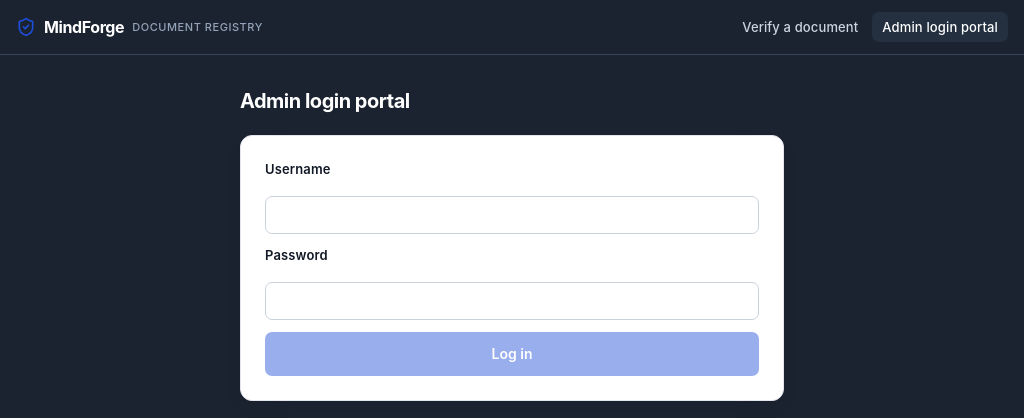
Test: dashboard › asks the server for the chosen status
In the field labelled "Username": (512, 215) [265,196,759,234], type "officer"
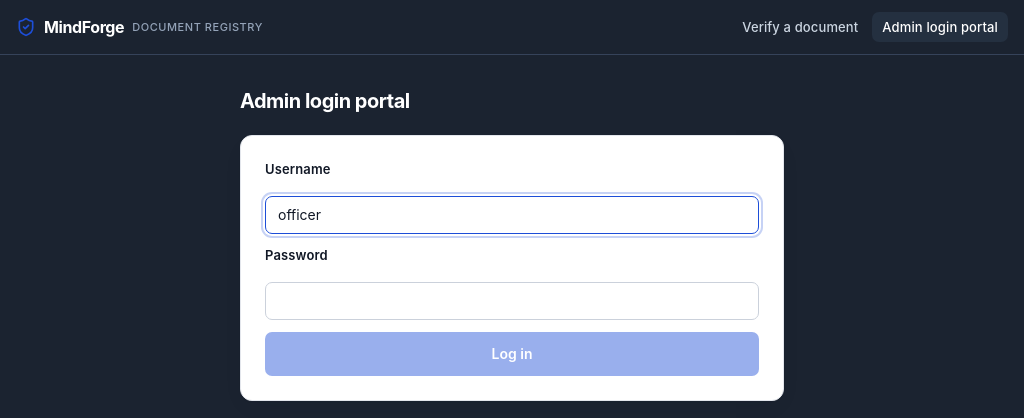
In the password field labelled "Password": (512, 301) [265,282,759,320], type "correct horse"
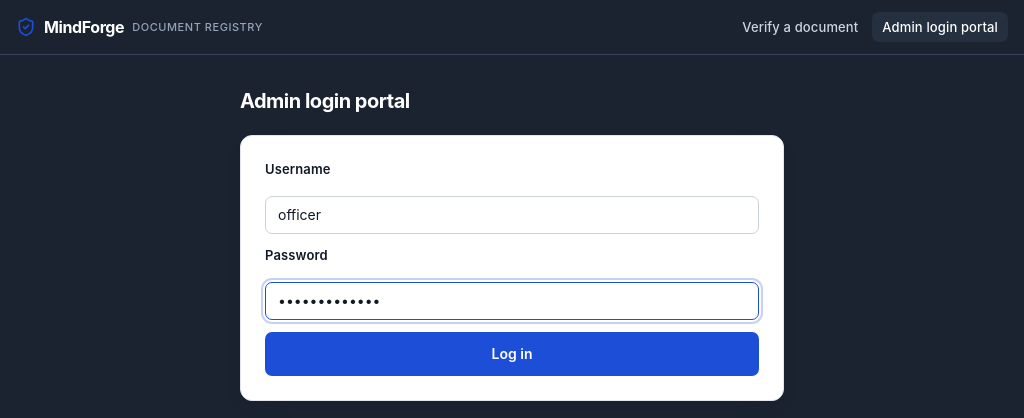
Click the button "Log in": (512, 354) [265,332,759,376]
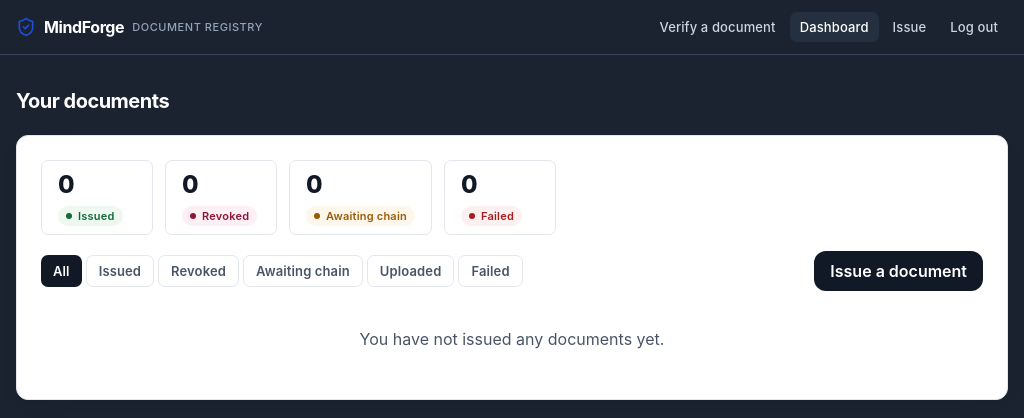
Now the text "You have not issued any documents yet." is shown, box [360,329,664,349]
Click the button "Revoked": (199, 271) [158,255,239,287]
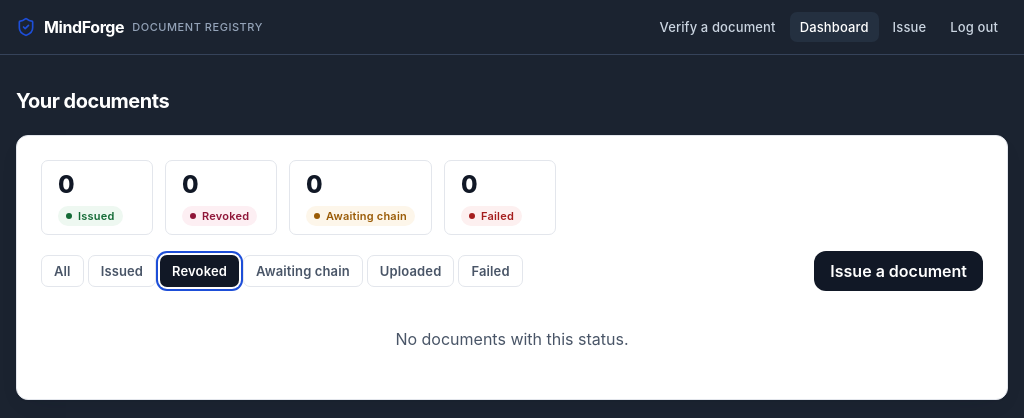
Now the text "No documents with this status." is shown, box [395,329,628,349]
